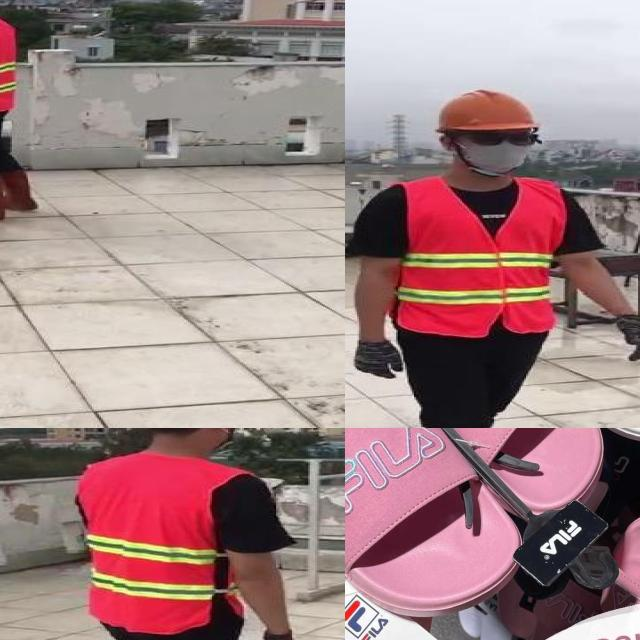Sandals: (345, 428, 632, 624)
boots: (3, 169, 39, 215)
face_mask: (458, 129, 535, 172)
glasses: (461, 127, 543, 152)
hand_glove: (352, 340, 408, 380), (611, 314, 640, 363)
head_helmet: (426, 86, 540, 134)
person: (345, 82, 640, 428), (67, 428, 310, 640), (0, 0, 49, 222)
vest: (77, 455, 239, 633), (395, 177, 565, 337), (0, 17, 14, 110)
